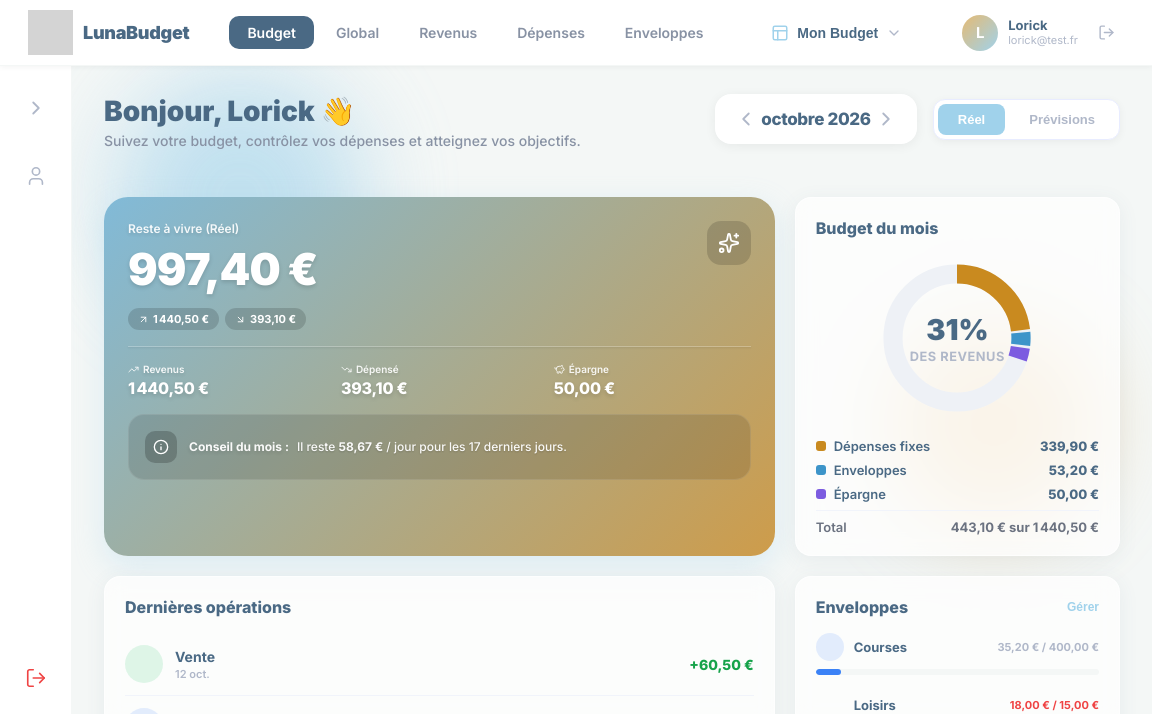
fiabilité › tableau de bord › en réel, les dernières opérations ne montrent que ce qui est déjà arrivé
Click the button "Prévisions": (1062, 119) [1009,104,1115,134]
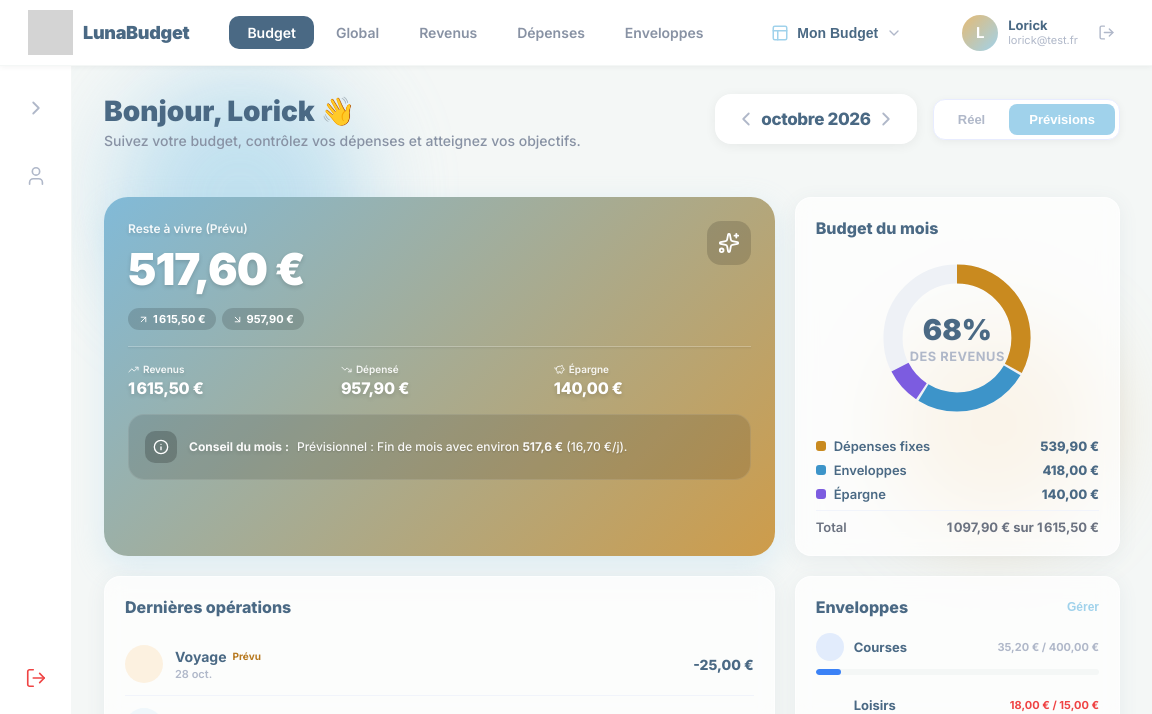
Check: the element that starts with "LunaBudget" shows "Prévu", box [232,650,261,662]
